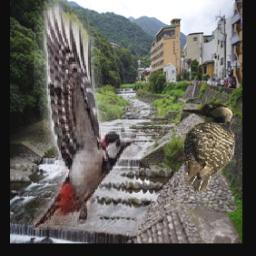Woodpecker: (34, 1, 133, 231), (168, 102, 236, 196)
